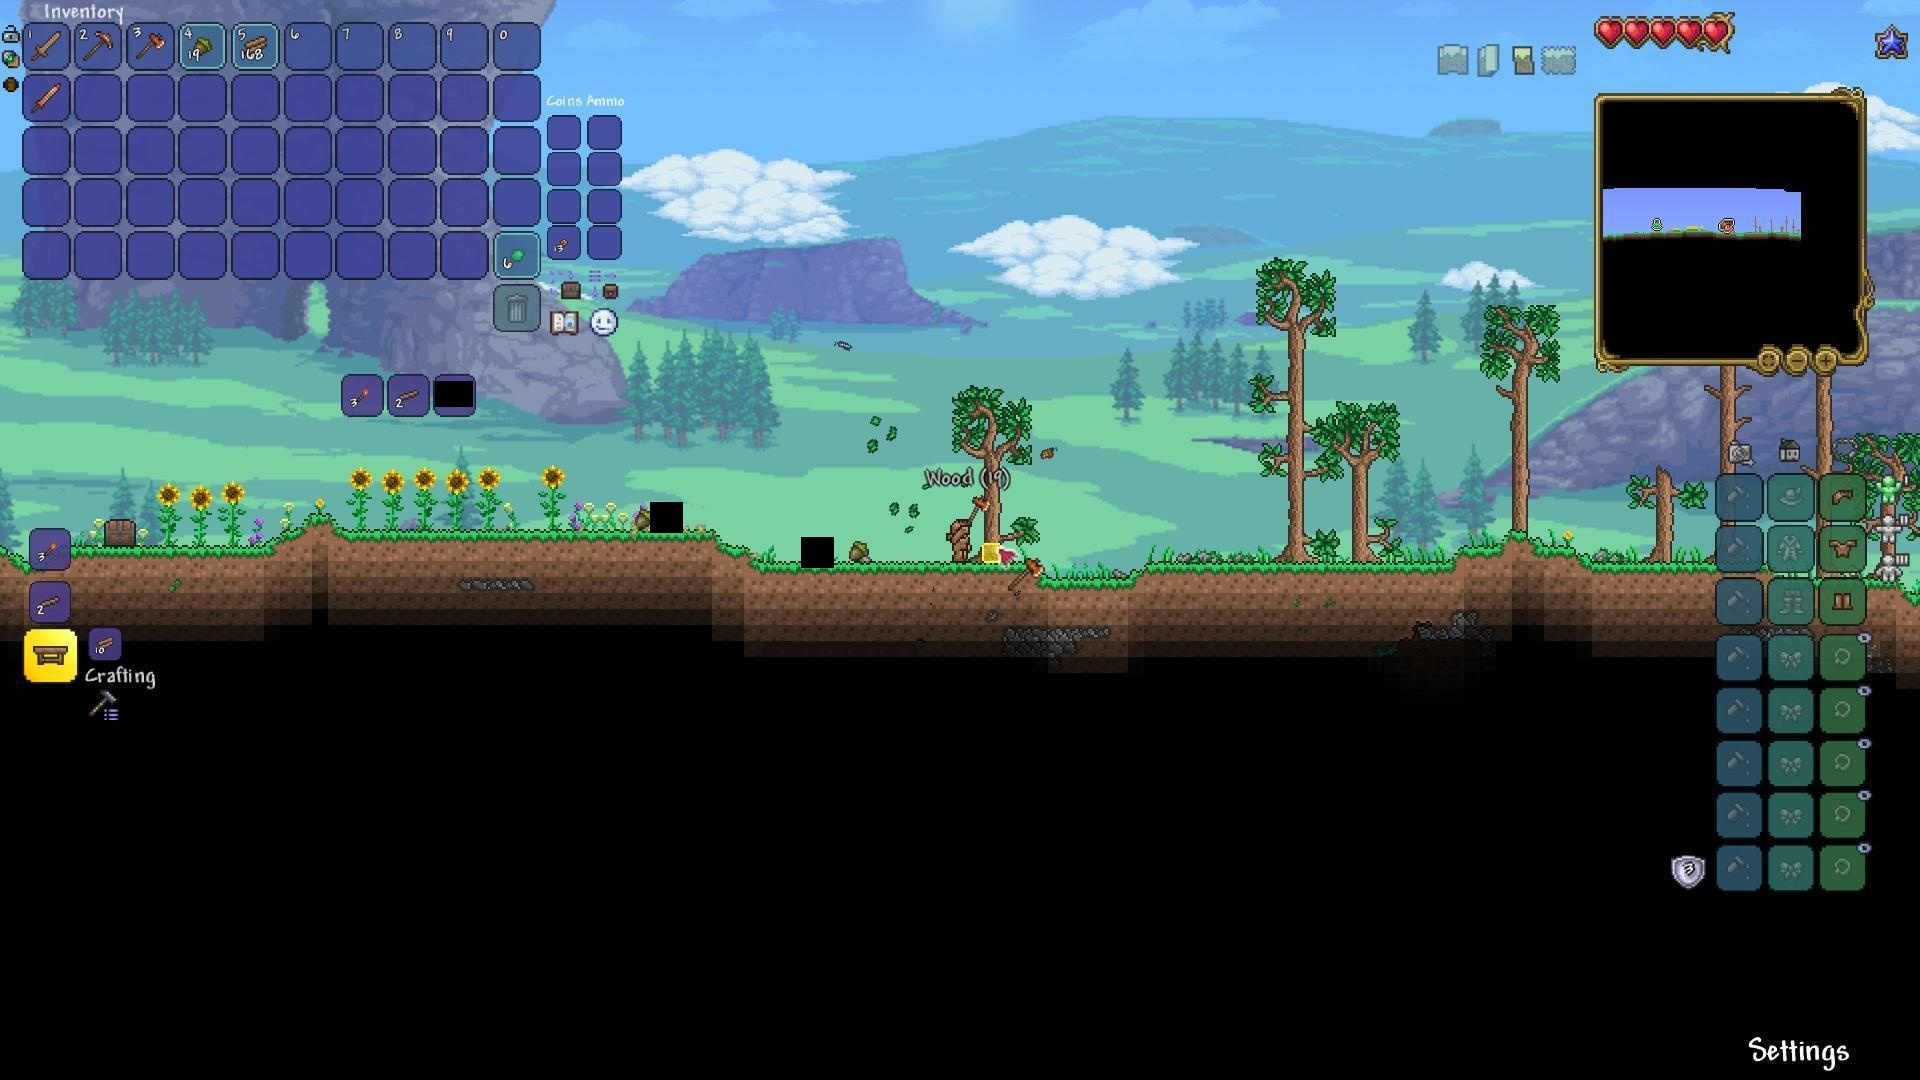breastplate: (1830, 537, 1859, 559)
helmet: (1829, 483, 1861, 512)
legs: (1832, 588, 1855, 616)
wood: (88, 629, 120, 659), (243, 36, 269, 59)
workbench: (32, 641, 69, 666)
